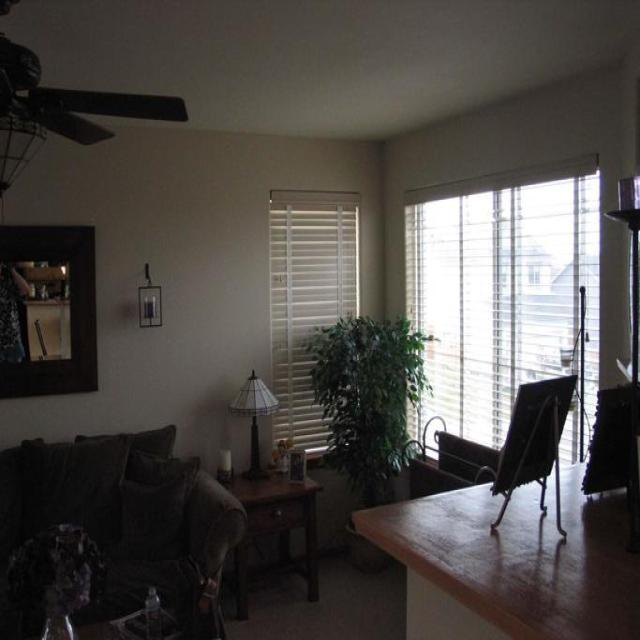crib: (407, 371, 577, 540)
plants: (300, 309, 439, 571)
rugs: (580, 382, 639, 496)
sofa: (0, 423, 248, 638)
table: (350, 461, 639, 639)
table-lamp: (227, 368, 279, 482)
window: (403, 158, 601, 468)
windows: (268, 188, 360, 458)
